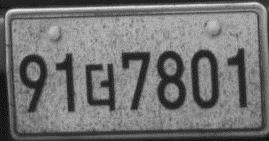0: (189, 48, 220, 109)
1: (221, 47, 258, 108), (51, 52, 83, 114)
7: (119, 50, 152, 112)
8: (156, 49, 187, 110)
9: (18, 52, 48, 113)
더: (83, 61, 117, 112)
